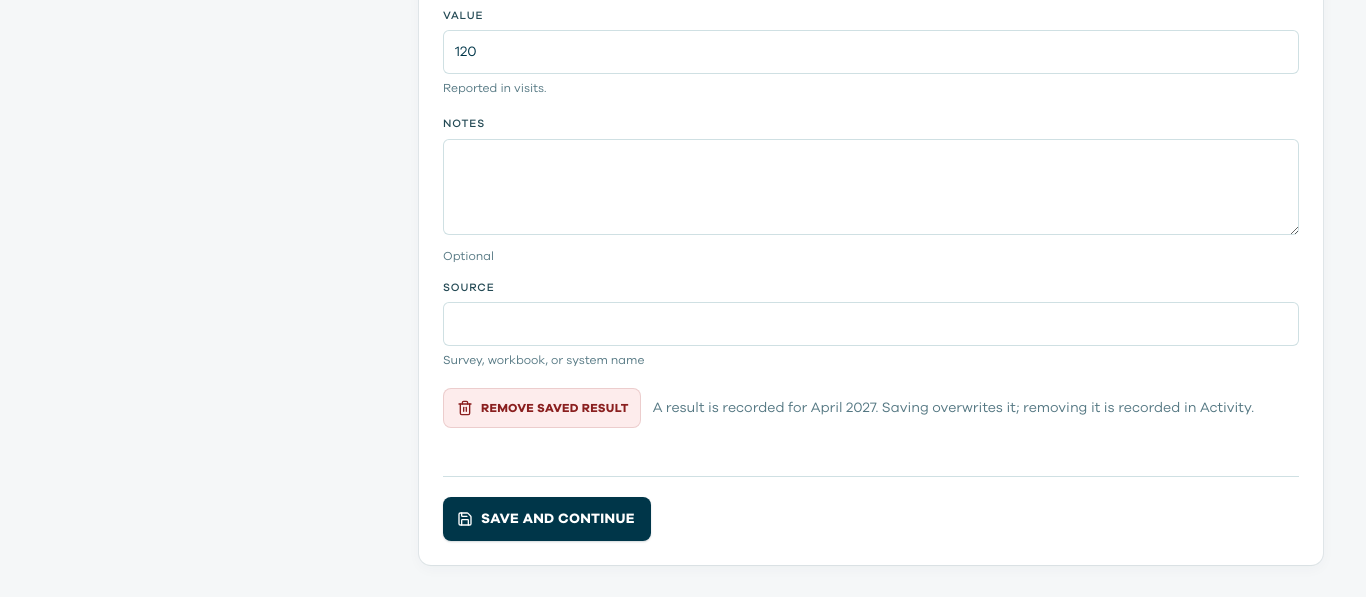
Test: Data Entry result removal › empties the input as soon as the server confirms, without waiting for the refresh
(page scrolled)
Expected: the number field labelled "Value" holds "120", x1=443 y1=30 x2=1299 y2=74
Step 1. Click the button "Remove saved result" → point(542, 408), box x1=443 y1=388 x2=641 y2=428
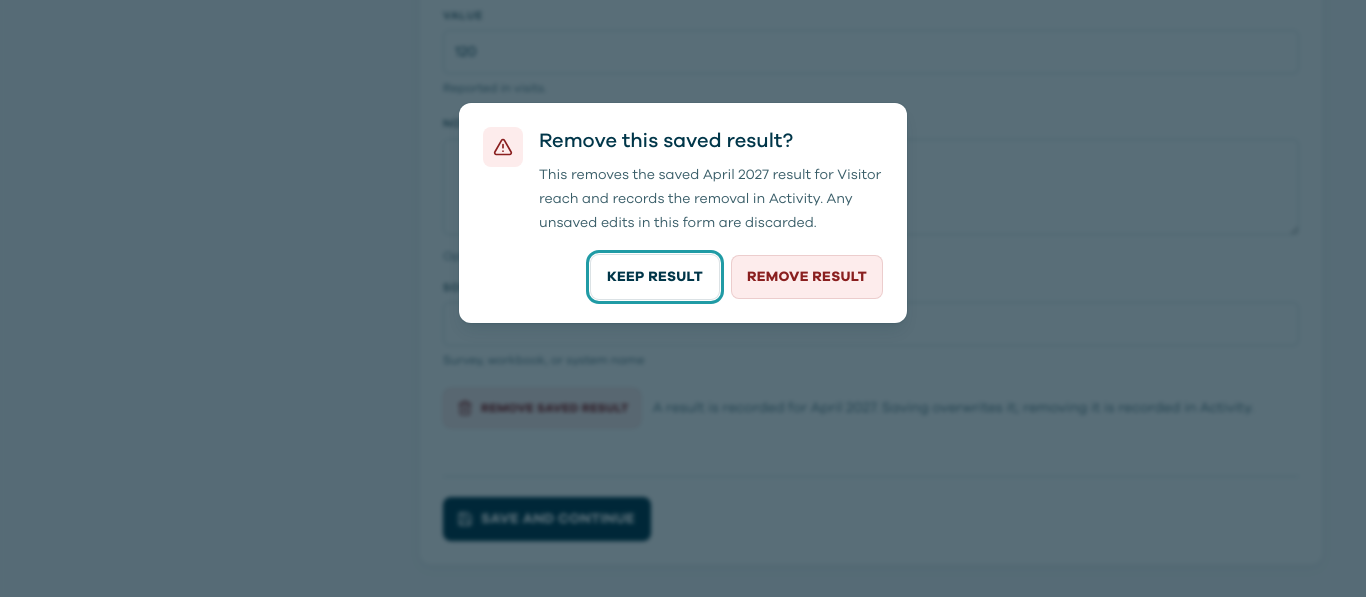
Step 2. Click the button "Remove result" → point(807, 277), box x1=731 y1=255 x2=883 y2=299
(page scrolled)
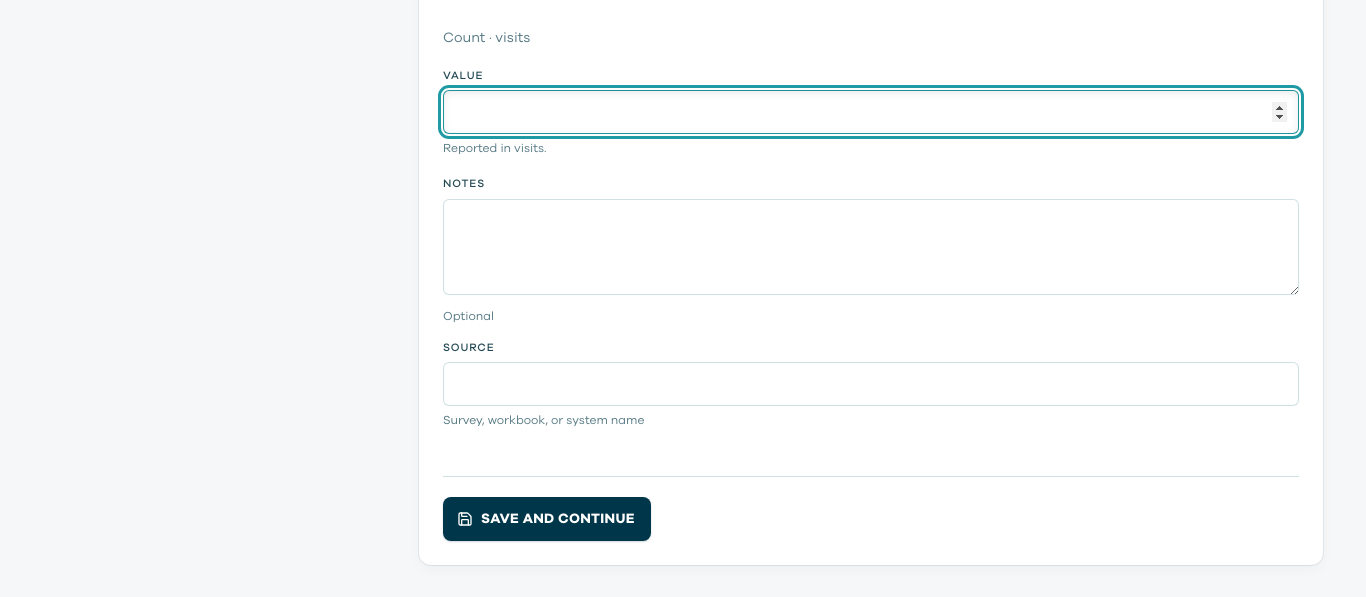
Now the number field labelled "Value" is empty, box x1=443 y1=90 x2=1299 y2=134
Now the button "Remove saved result" is gone
